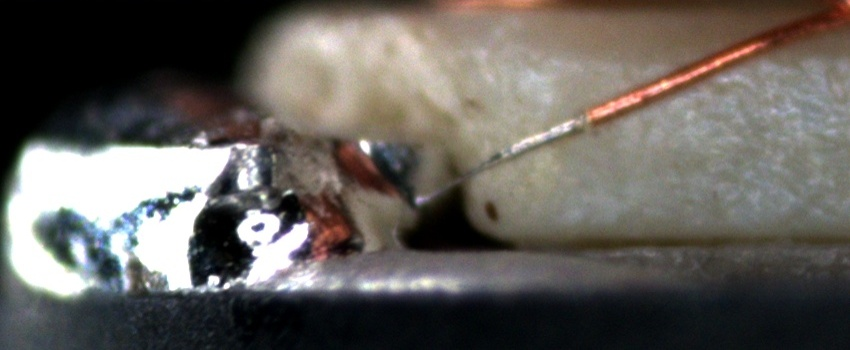DL: (468, 34, 850, 98)
TS: (415, 112, 587, 207)
TTCW: (408, 84, 651, 209)
